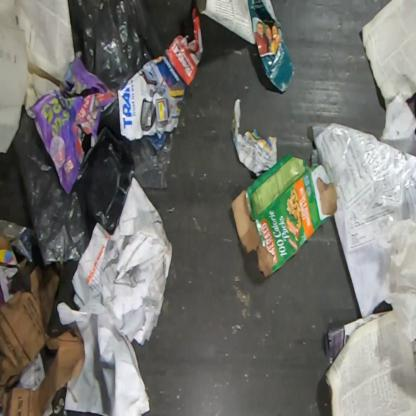cardboard: (230, 154, 340, 282), (0, 264, 85, 416), (0, 219, 44, 294)
rigid_plastic: (73, 127, 136, 236)
soft_plastic: (310, 122, 415, 318), (12, 104, 98, 264), (68, 0, 166, 93), (131, 133, 177, 191)
